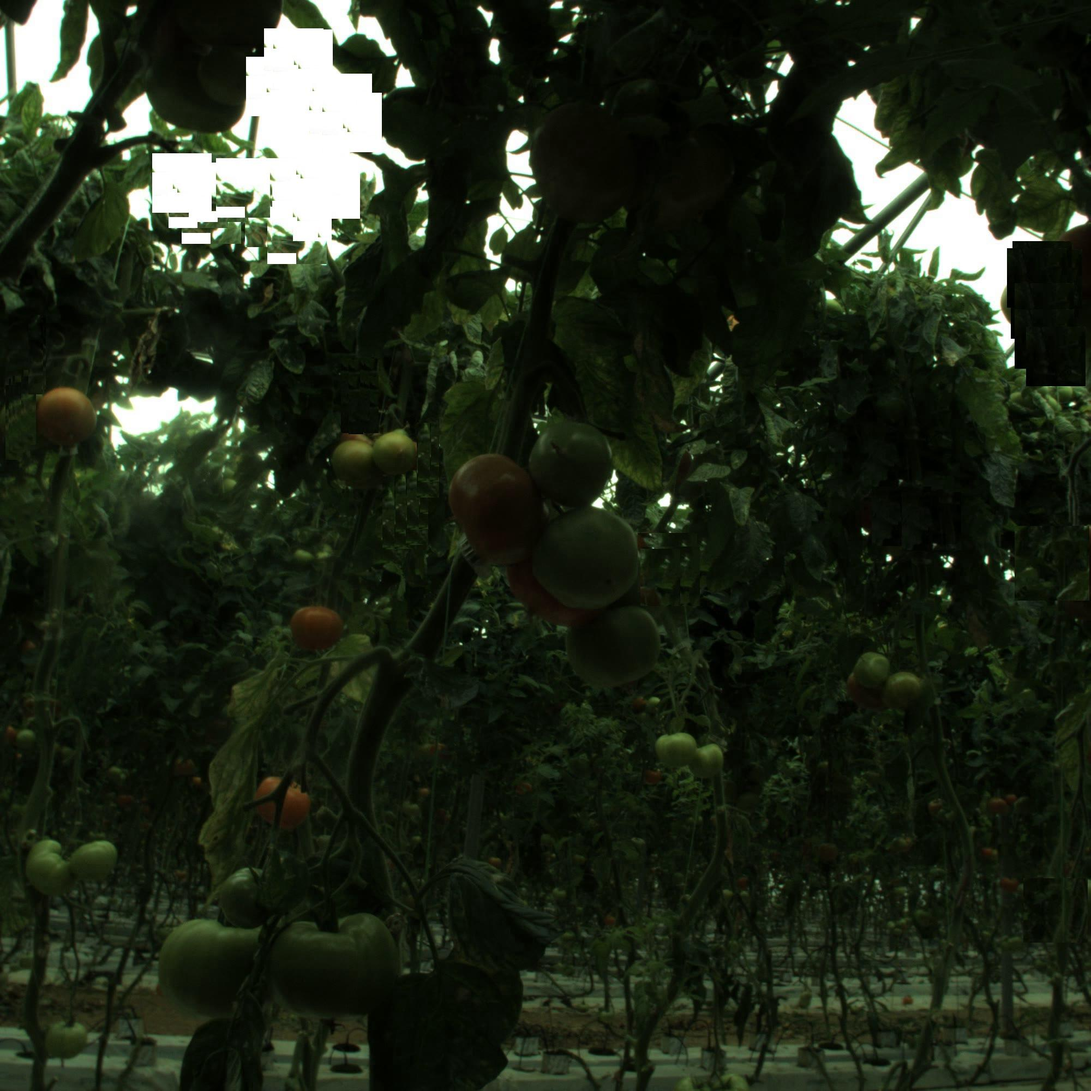semi-ripe: (439, 453, 553, 567), (250, 770, 315, 835), (39, 389, 94, 444), (291, 604, 341, 655)
unripe: (273, 902, 397, 1025), (527, 105, 640, 218), (536, 504, 640, 609), (165, 914, 267, 1016), (566, 597, 662, 693), (536, 423, 610, 497), (218, 863, 286, 932), (21, 842, 75, 897), (329, 436, 379, 486), (40, 1017, 85, 1062), (69, 837, 114, 882), (883, 672, 927, 716), (854, 649, 898, 693), (375, 433, 417, 475), (657, 729, 698, 771), (689, 742, 724, 777)
